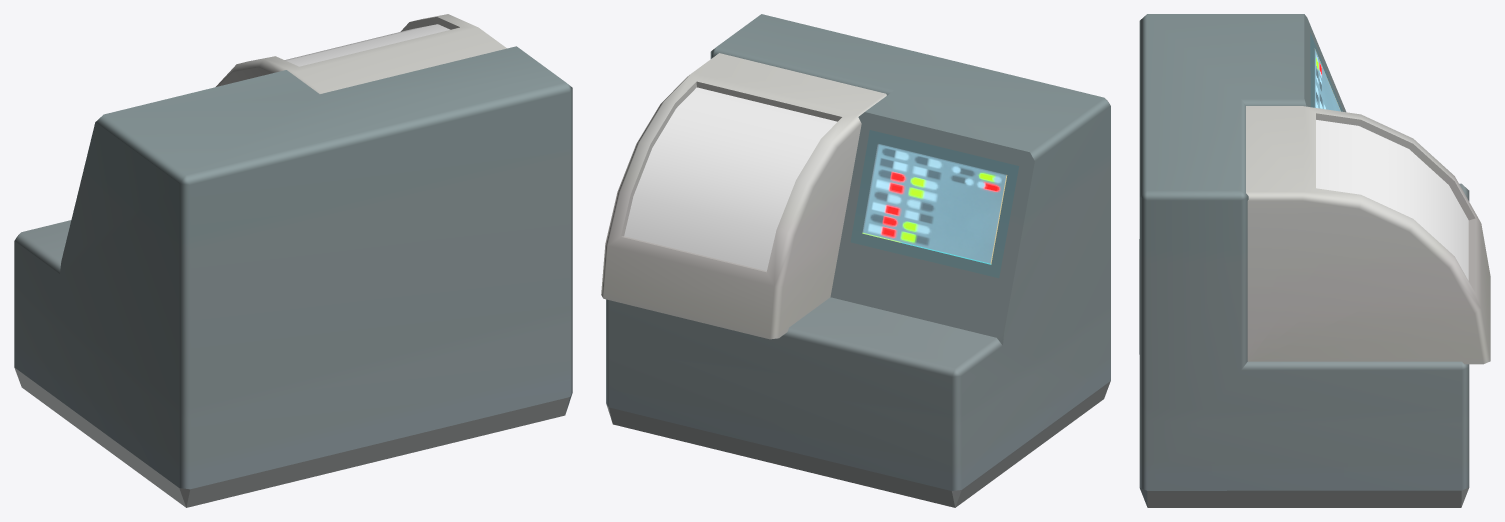
The model's file is Pfb_JLAB_Biochemical_Analyzer.fbx.
The picture shows the model from 3 angles, left to right: view 1: azimuth 30°, elevation 25°; view 2: azimuth 150°, elevation 25°; view 3: azimuth 270°, elevation 25°; orthographic projection. The views are drawn at different scales.
Visible parts, largest first — view 1: Color_Dark, Color, Glass; view 2: Color_Dark, Color, Glass, Monitors; view 3: Color_Dark, Color, Glass, Monitors.
Boxes of the visible parts, box(x1,y1,x2,y2) form: Color_Dark: box(14, 46, 572, 507); Color: box(216, 14, 506, 93); Glass: box(285, 24, 450, 66); Color_Dark: box(606, 14, 1110, 507); Color: box(601, 53, 886, 339); Glass: box(624, 87, 837, 270); Monitors: box(862, 143, 1007, 264); Color_Dark: box(1139, 14, 1469, 507); Color: box(1246, 106, 1490, 364); Glass: box(1316, 120, 1468, 280); Monitors: box(1314, 48, 1340, 111).
Size of the model in its own units: 0.63 by 0.51 by 0.5108.
4 materials, 4 textured.
